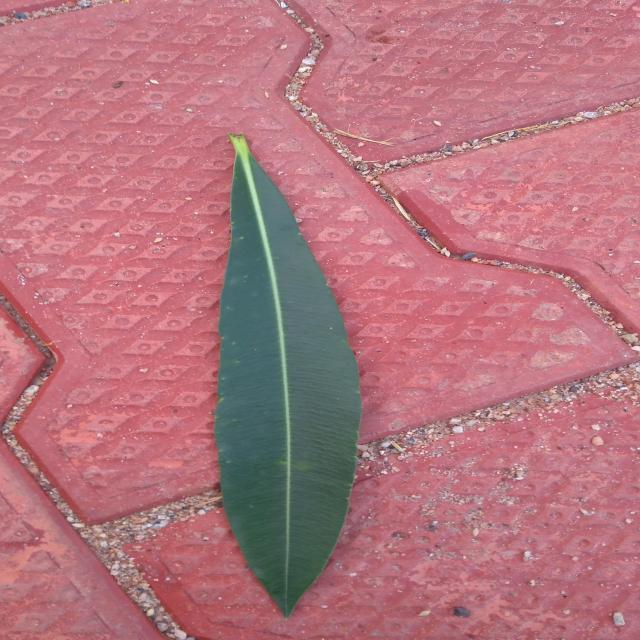ganigale: (216, 134, 362, 616)
